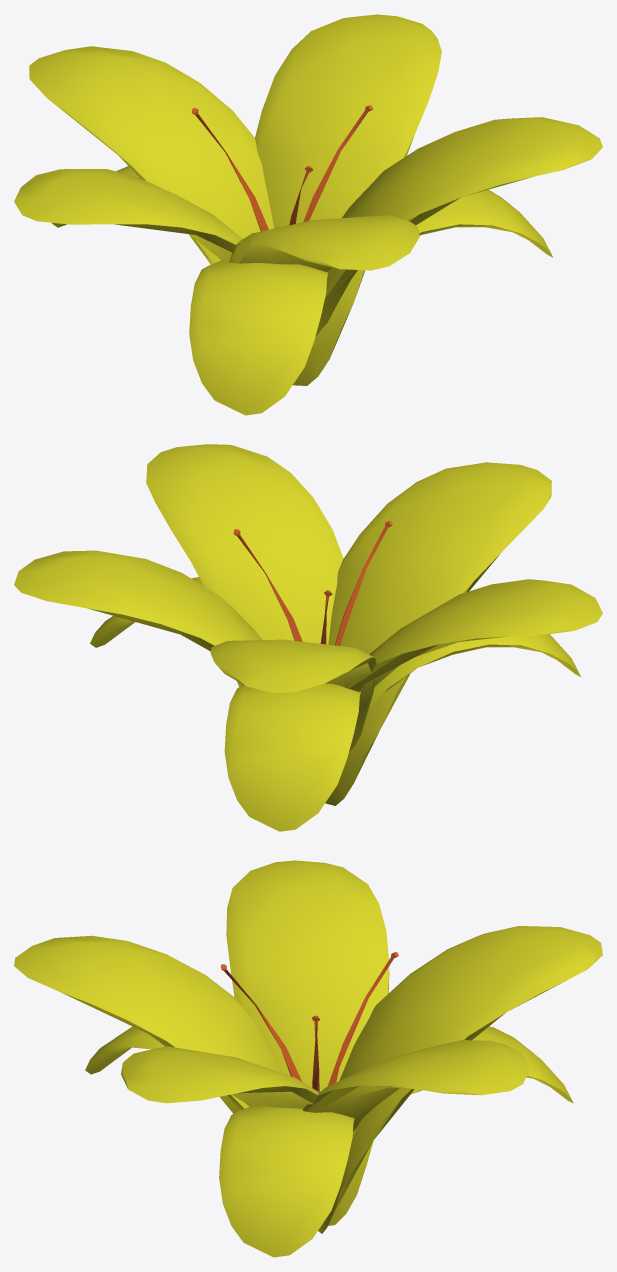
The model's file is YellowbarkBrier.fbx.
The picture shows the model from 3 angles, top to bottom: view 1: azimuth 30°, elevation 25°; view 2: azimuth 150°, elevation 25°; view 3: azimuth 270°, elevation 25°; orthographic projection. The views are drawn at different scales.
Parts seen in each view (by area): view 1: YellowbarkBrier; view 2: YellowbarkBrier; view 3: YellowbarkBrier.
Boxes of the visible parts, x1=… form: YellowbarkBrier: x1=14, y1=14, x2=602, y2=415; YellowbarkBrier: x1=14, y1=444, x2=602, y2=831; YellowbarkBrier: x1=14, y1=860, x2=602, y2=1257.
Bounding box in the file's own units: 409 × 196 × 416.
1 material, 1 textured.
